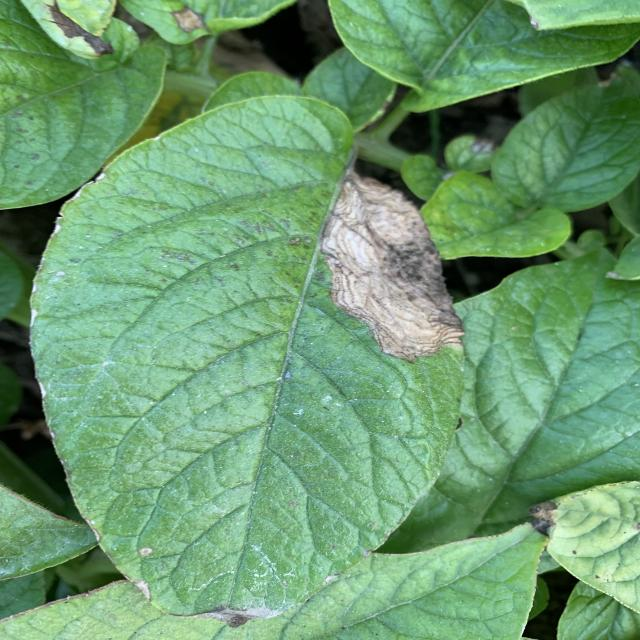lateblight: (322, 171, 463, 361)
